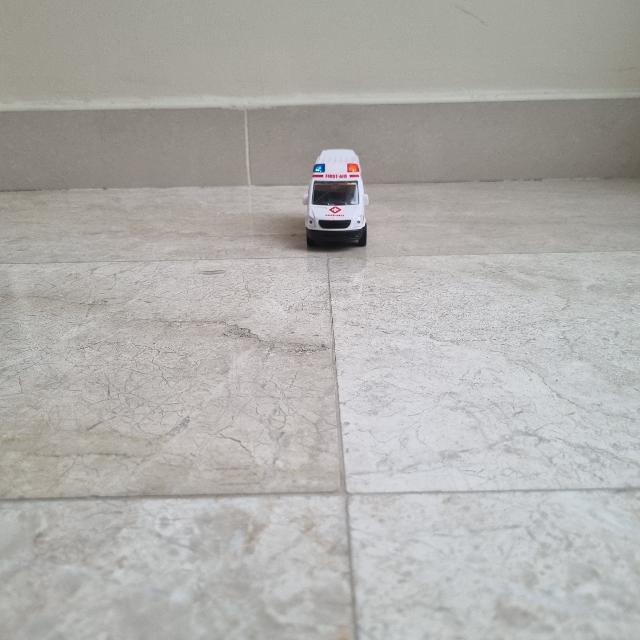emergency-vehicle: (302, 148, 371, 250)
